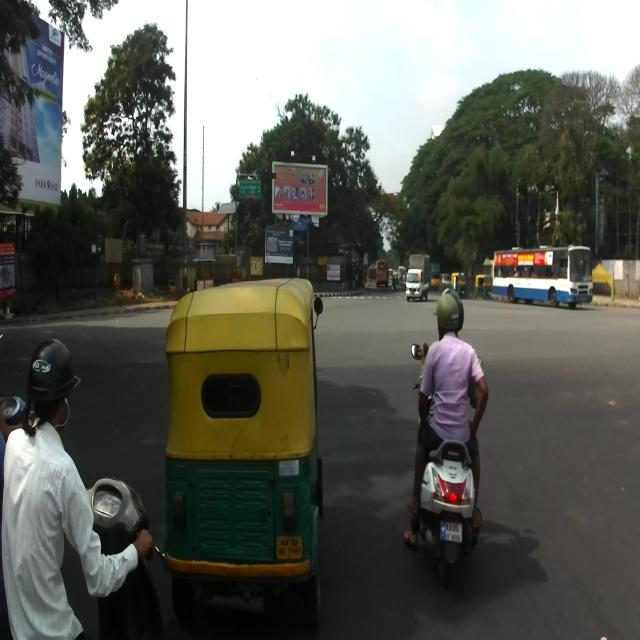Car_Maruti-Suzuki: (438, 273, 451, 293)
autorickshaw: (162, 277, 327, 638), (474, 273, 492, 299), (450, 272, 466, 298)
bus: (492, 244, 593, 308)
scooter: (410, 338, 484, 589), (64, 475, 169, 639)
truck: (405, 252, 430, 301)
